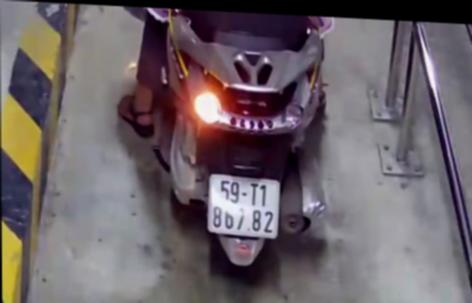License_Plate: (195, 170, 287, 242)
